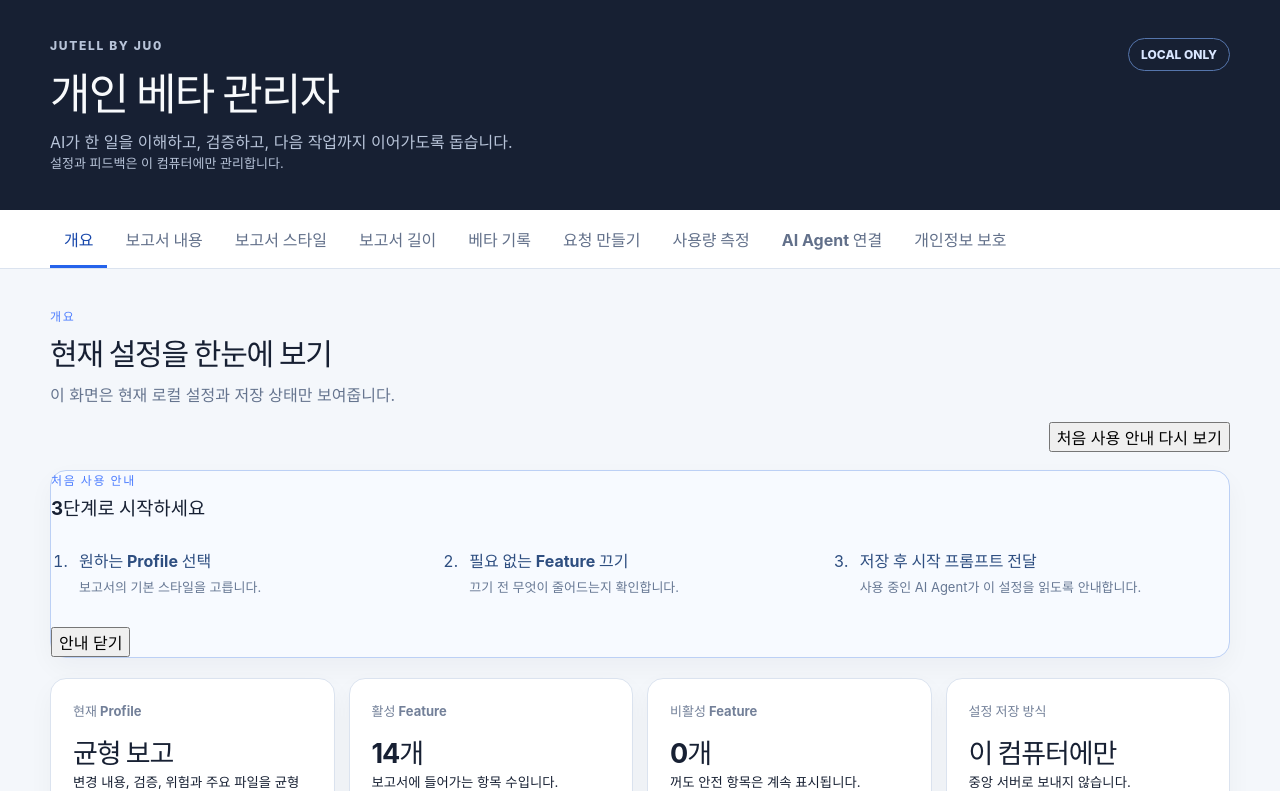
Test: local admin screens › shows request builder templates when the feature is on
Click the button "요청 만들기". click: click(602, 239)
box: [549,210,654,268]
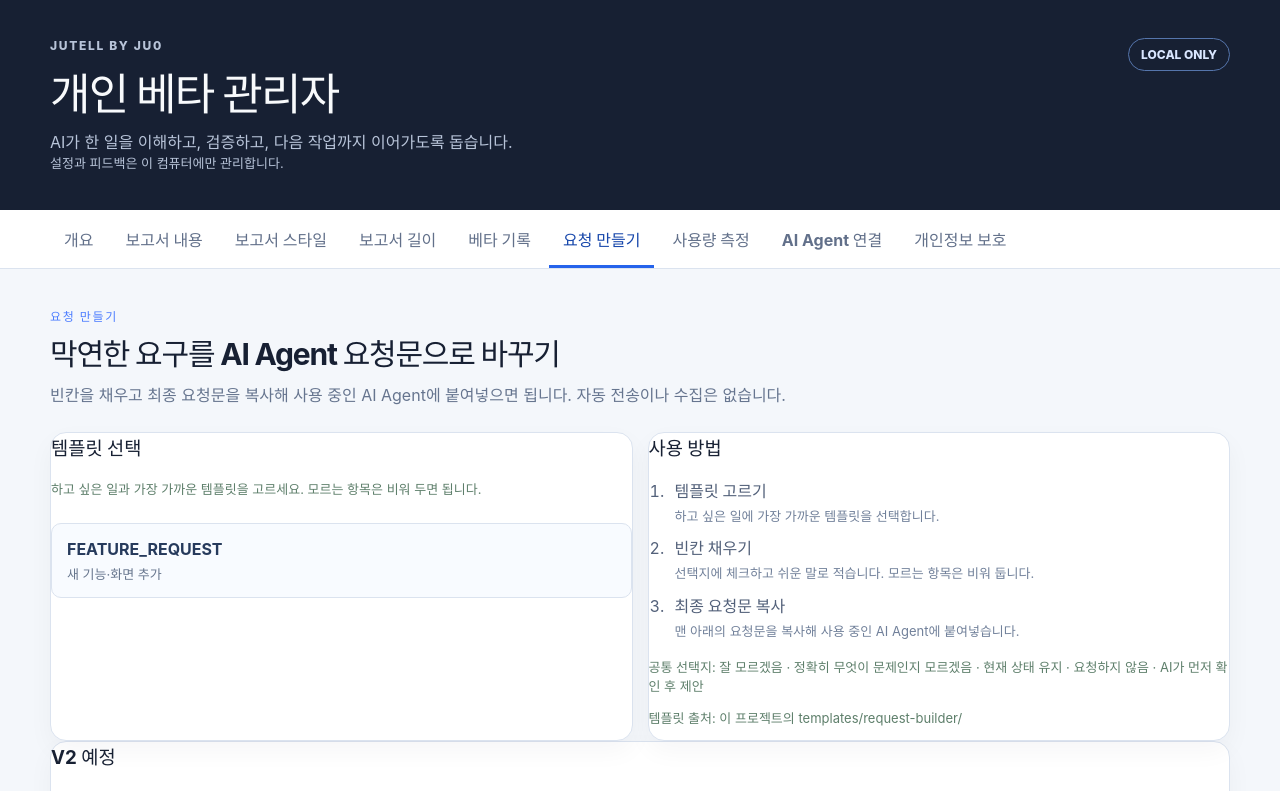
Expected: the heading "막연한 요구를 AI Agent 요청문으로 바꾸기" is shown, [50,336,560,372]
Expected: the text "FEATURE_REQUEST" is shown, [67,539,222,559]
Expected: the text "자동 전송이나 수집은 없습니다" is shown, [50,385,786,405]
Click the button "FEATURE_REQUEST 새 기능·화면 추가". click: click(145, 549)
box: [51,523,632,598]
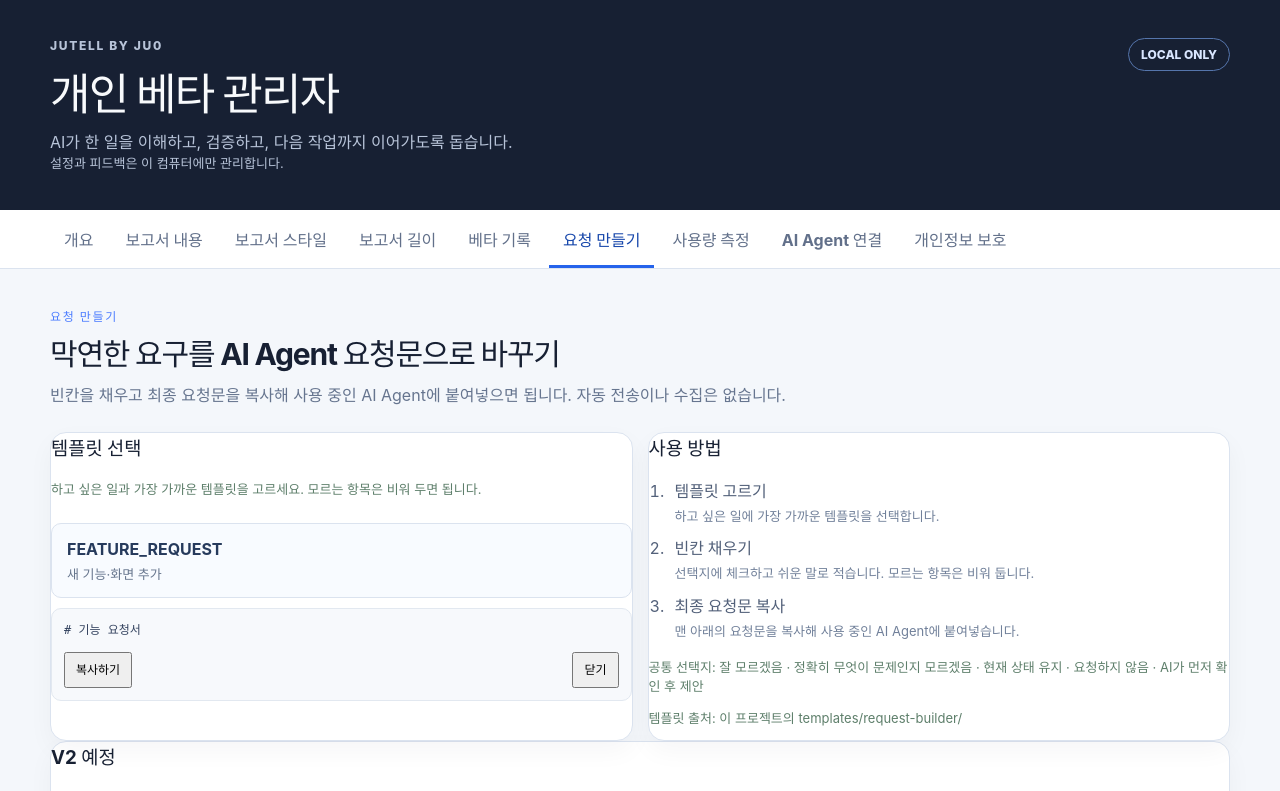
Expected: the text "# 기능 요청서" is shown, [64,623,141,637]
